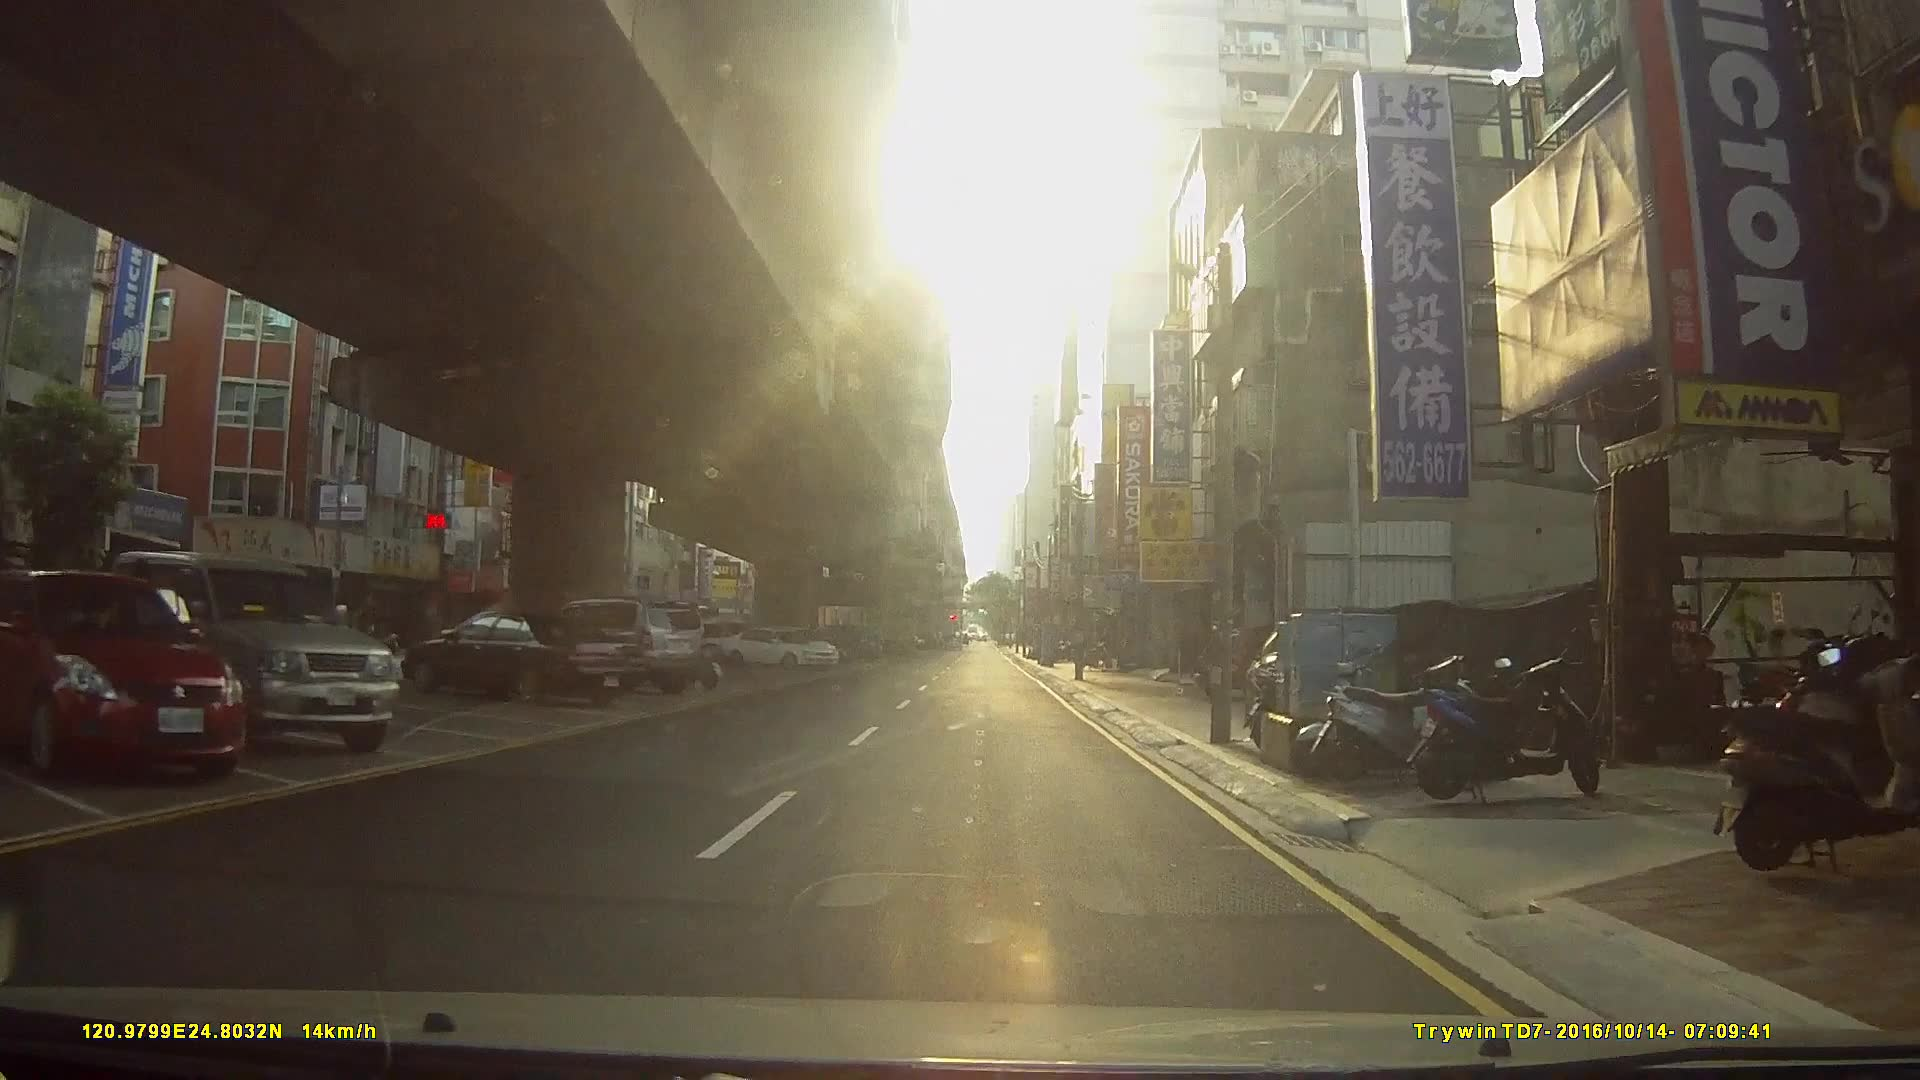vehicle: (105, 549, 397, 758), (0, 568, 243, 782), (406, 608, 651, 707), (535, 595, 707, 695), (715, 626, 841, 670)
